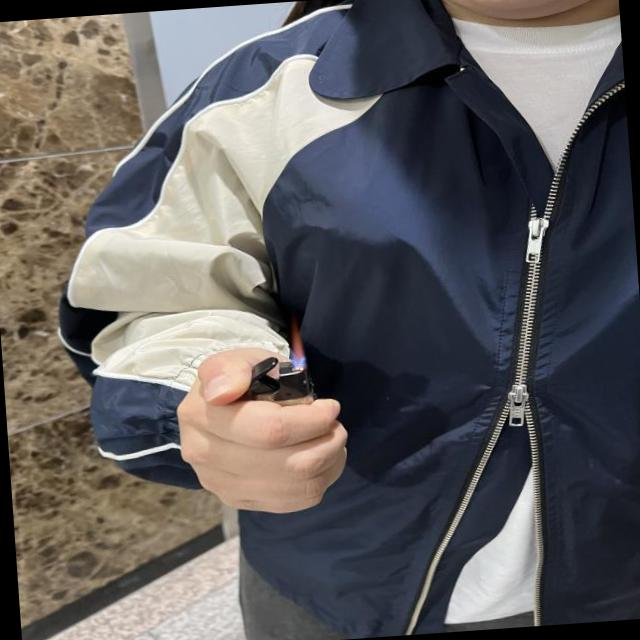Fire: (286, 316, 308, 368)
